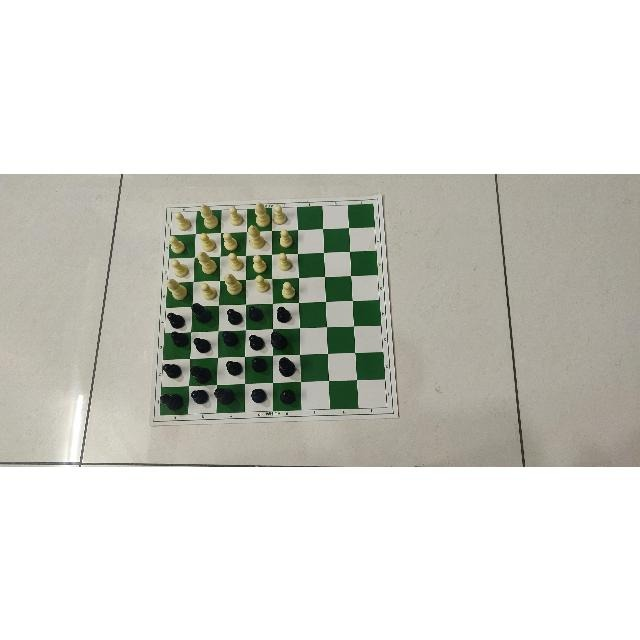black-bishop: (159, 390, 185, 412), (277, 353, 297, 380), (214, 386, 236, 408), (191, 299, 211, 323), (269, 329, 291, 349), (187, 362, 211, 379)
black-pawn: (278, 387, 299, 407), (249, 354, 270, 373), (162, 359, 179, 382), (274, 304, 293, 323), (169, 329, 187, 349), (191, 336, 211, 353), (225, 306, 242, 326), (190, 388, 208, 406), (249, 386, 267, 404), (166, 311, 185, 328), (224, 358, 243, 375), (246, 303, 263, 321), (222, 331, 240, 347), (248, 332, 264, 350)
white-bishop: (197, 200, 218, 229), (247, 222, 267, 251), (223, 270, 242, 295), (197, 249, 215, 274), (253, 200, 270, 225), (165, 278, 188, 296)
white-pawn: (174, 208, 194, 232), (167, 256, 188, 276), (168, 231, 185, 250), (198, 230, 215, 249), (200, 280, 219, 297), (228, 204, 242, 226), (280, 227, 295, 246), (276, 249, 291, 268), (273, 203, 287, 223), (253, 252, 267, 272), (222, 230, 237, 248), (282, 278, 294, 298), (227, 251, 241, 268), (255, 273, 268, 290)
